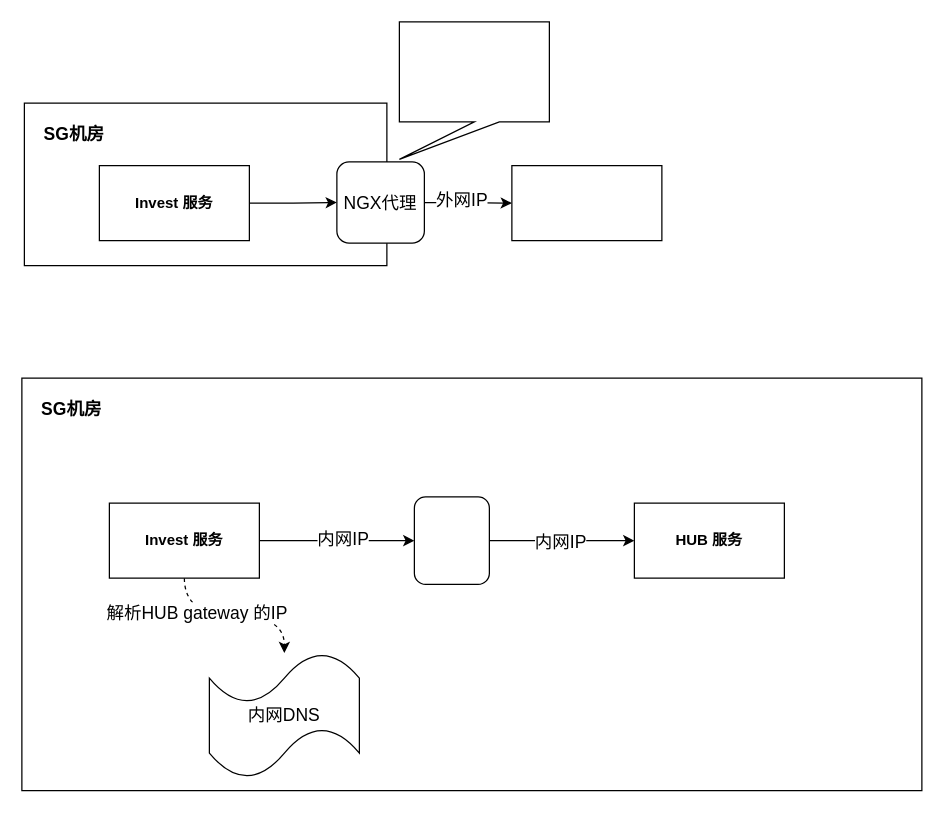
Image size: 944x813. Some labels were removed from this diagram. Here are the shapes that lost their labels. From the top down, the centre of each, then its label:
At point 473,90: "设置x-real-ip为外网IP".
At point 586,202: "外网服务".
At point 451,540: "SGW".
